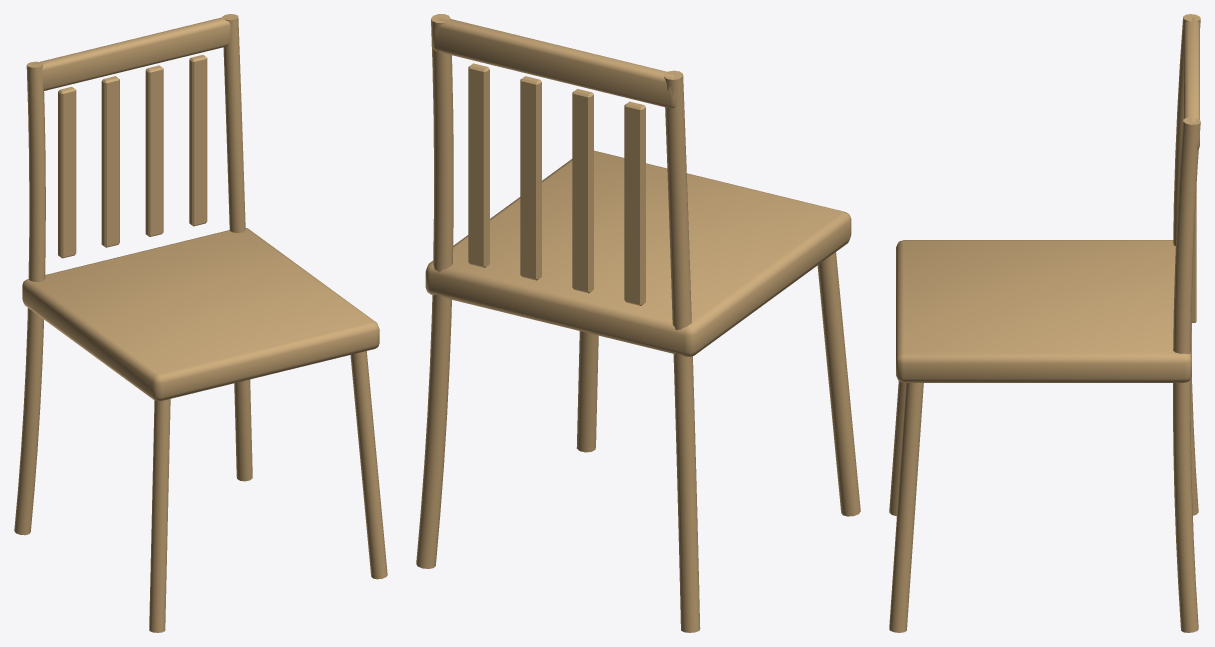
File: i_chair_0.glb
3 renders of one model, left to right at view 1: azimuth 30°, elevation 25°; view 2: azimuth 150°, elevation 25°; view 3: azimuth 270°, elevation 25°, orthographic. The views are drawn at different scales.
Visible parts, largest first — view 1: o.004, o.001, o.009, o.003, o.002, o, o.005, o.006, o.007, o.008; view 2: o.004, o.001, o.003, o.009, o, o.005, o.007, o.008, o.006, o.002; view 3: o.004, o.003, o.002, o.001, o.009, o, o.008.
Part boxes in pixels (bbox=[...]): o.004: bbox=[22, 228, 379, 400]; o.001: bbox=[14, 61, 45, 535]; o.009: bbox=[32, 16, 230, 90]; o.003: bbox=[222, 14, 252, 481]; o.002: bbox=[350, 351, 387, 579]; o: bbox=[149, 399, 170, 632]; o.005: bbox=[58, 86, 76, 258]; o.006: bbox=[101, 76, 119, 247]; o.007: bbox=[145, 65, 163, 236]; o.008: bbox=[189, 55, 207, 226]; o.004: bbox=[425, 150, 851, 356]; o.001: bbox=[664, 70, 700, 632]; o.003: bbox=[416, 14, 453, 568]; o.009: bbox=[432, 18, 675, 108]; o: bbox=[817, 252, 860, 516]; o.005: bbox=[624, 101, 645, 305]; o.007: bbox=[520, 76, 541, 280]; o.008: bbox=[468, 63, 489, 267]; o.006: bbox=[572, 89, 593, 293]; o.002: bbox=[576, 331, 598, 452]; o.004: bbox=[896, 240, 1191, 382]; o.003: bbox=[1173, 117, 1200, 632]; o.002: bbox=[889, 383, 923, 632]; o.001: bbox=[1173, 14, 1200, 515]; o.009: bbox=[1184, 17, 1199, 149]; o: bbox=[889, 381, 905, 516]; o.008: bbox=[1191, 187, 1196, 322].
Size of the model in its own units: 0.4597 by 0.8621 by 0.4843.
